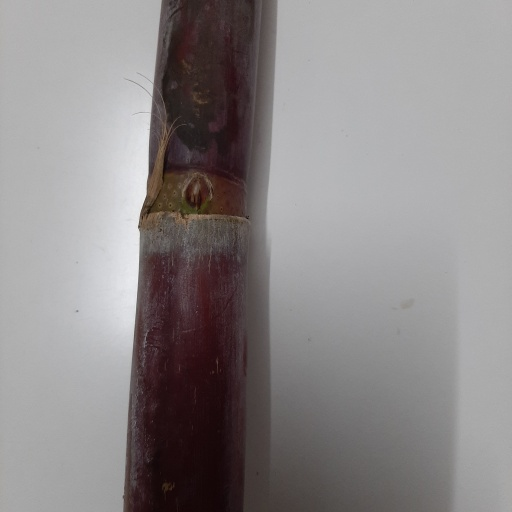Bud: (184, 173, 212, 211)
